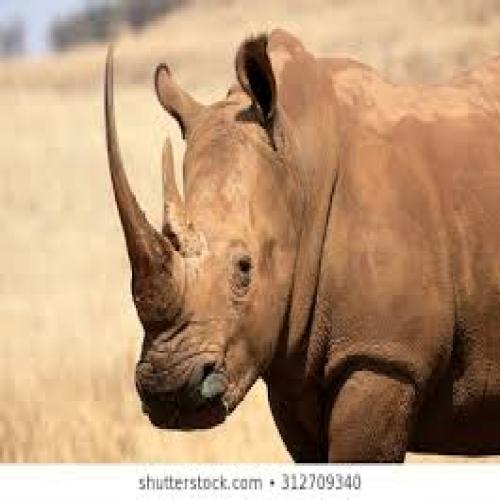rhino-endangered: (103, 30, 500, 466)
